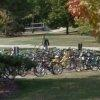Bicycle: (27, 46, 82, 78)
